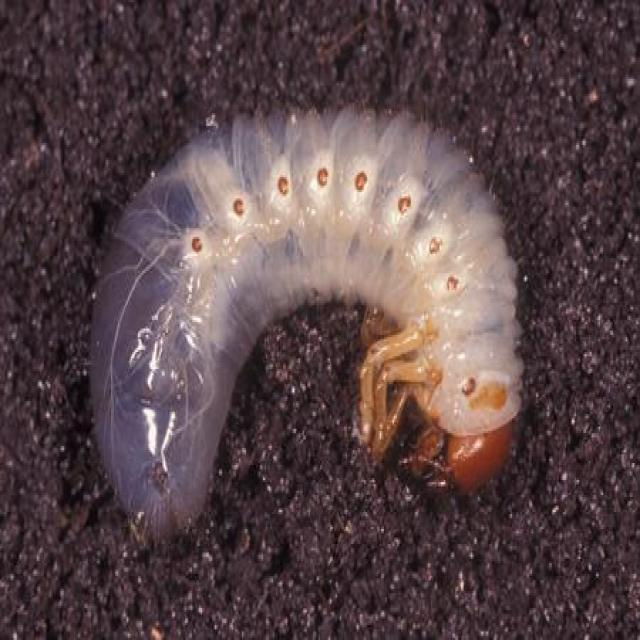Grub-Adult-: (84, 97, 536, 555)
